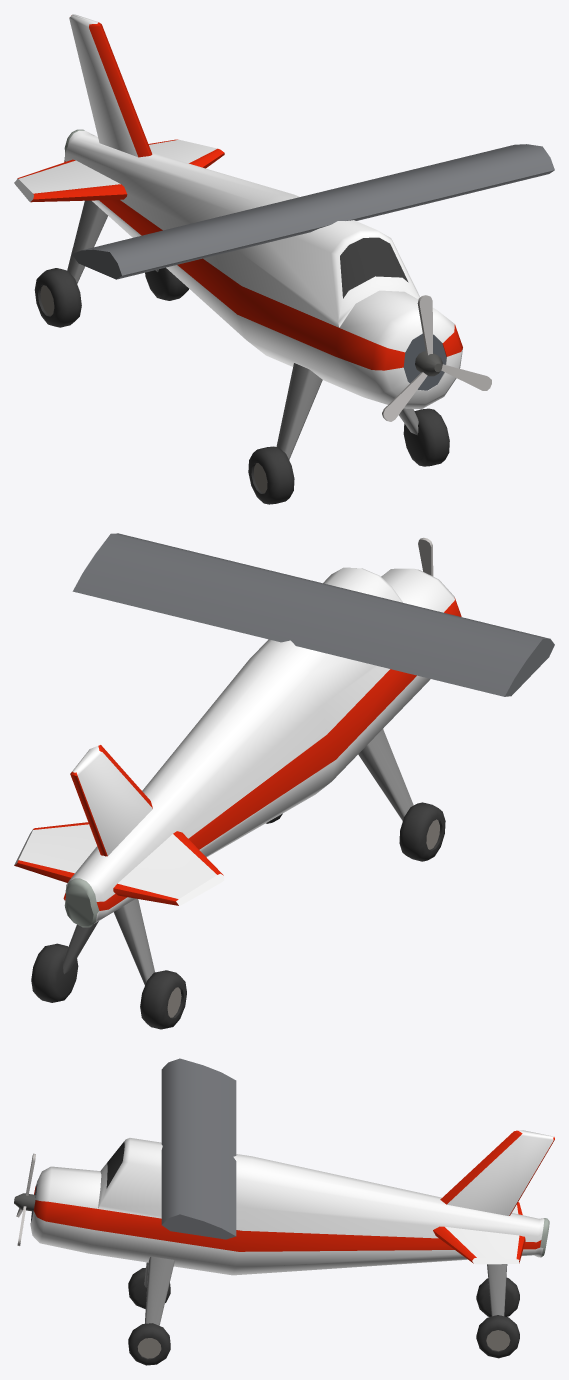
File: Aircraft_2.fbx
3 views of the same model, one above another, from view 1: azimuth 30°, elevation 25°; view 2: azimuth 150°, elevation 25°; view 3: azimuth 270°, elevation 25° (orthographic). The views are drawn at different scales.
Parts seen in each view (by area): view 1: Aircraft_2; view 2: Aircraft_2; view 3: Aircraft_2.
Part boxes in pixels (left/top/right/bottom): Aircraft_2: left=14, top=14, right=554, bottom=504; Aircraft_2: left=14, top=533, right=554, bottom=1029; Aircraft_2: left=14, top=1058, right=554, bottom=1365.
Size of the model in its own units: 796 by 489 by 1168.
